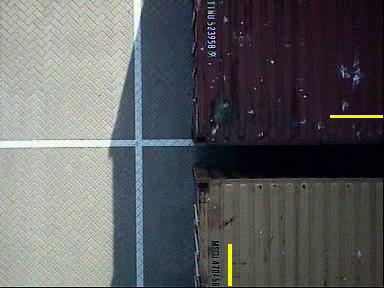groundmarker_2: (53, 52, 149, 113)
